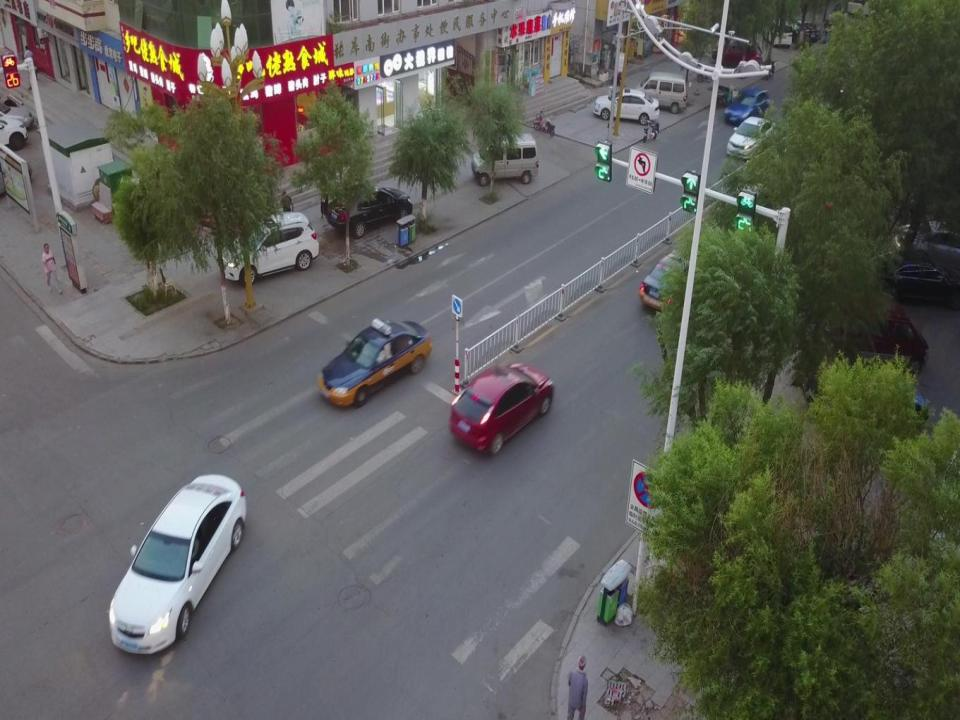car: (108, 472, 244, 656), (781, 290, 930, 373), (448, 362, 555, 456), (318, 320, 432, 408), (217, 215, 320, 283), (867, 248, 960, 309), (638, 245, 714, 317), (327, 183, 411, 235), (896, 216, 960, 256), (593, 88, 659, 124), (726, 117, 775, 161), (724, 88, 775, 125), (712, 36, 762, 70), (789, 17, 820, 47), (762, 21, 792, 47)
van: (471, 134, 540, 185), (633, 72, 688, 114)
